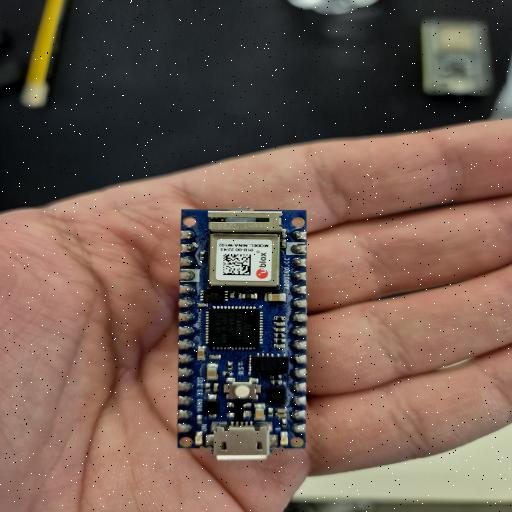arduino-nano-iot-33: (180, 208, 306, 450)
